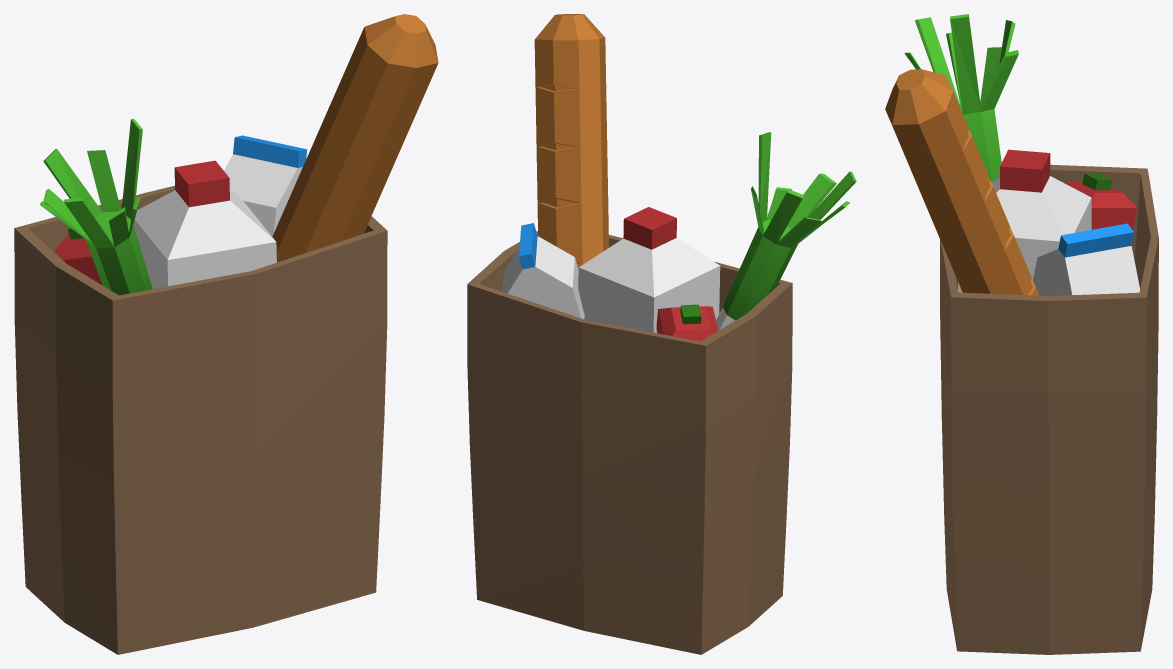
File: Bag.fbx
3 renders of one model, left to right at view 1: azimuth 30°, elevation 25°; view 2: azimuth 150°, elevation 25°; view 3: azimuth 270°, elevation 25°, orthographic. The views are drawn at different scales.
Parts seen in each view (by area): view 1: Sphere.001; view 2: Sphere.001; view 3: Sphere.001.
Part boxes in pixels (<box>): Sphere.001: <box>14,14,438,654</box>; Sphere.001: <box>467,14,856,654</box>; Sphere.001: <box>885,14,1158,654</box>.
Bounding box in the file's own units: 415 × 267 × 627.
